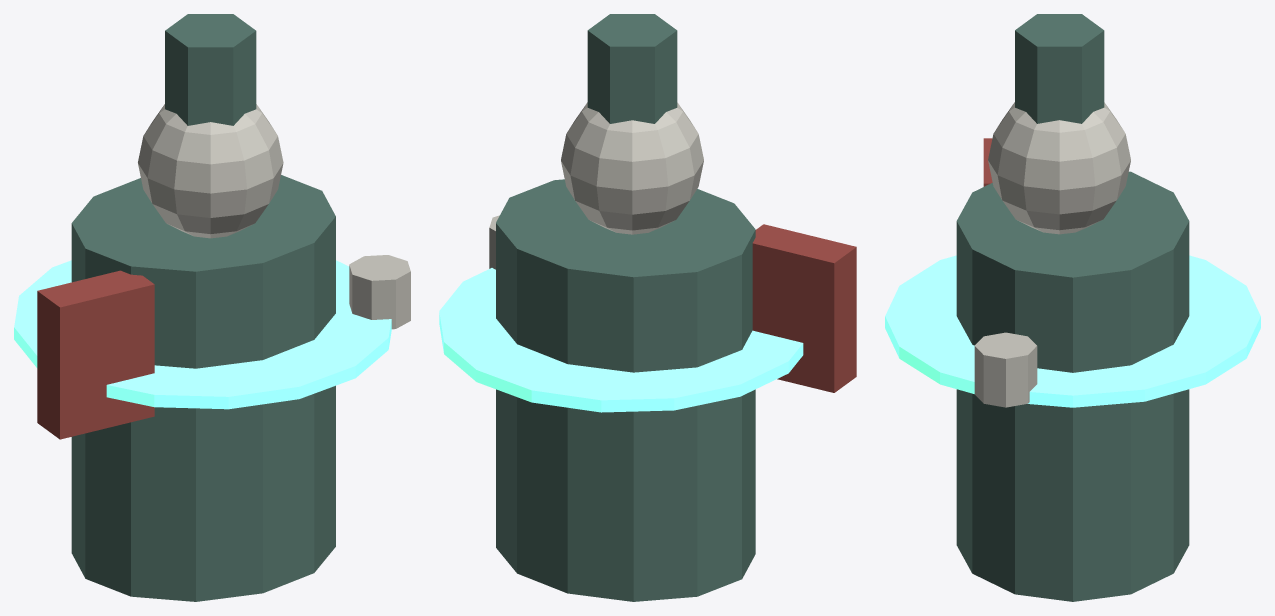
The model's file is compliance_lich.glb.
The picture shows the model from 3 angles, left to right: view 1: azimuth 30°, elevation 25°; view 2: azimuth 150°, elevation 25°; view 3: azimuth 270°, elevation 25°; orthographic projection.
Parts seen in each view (by area): view 1: BodyMesh, WardRing; view 2: BodyMesh, WardRing; view 3: BodyMesh, WardRing.
Part boxes in pixels (x1,y1,x2,y2): BodyMesh: [37, 14, 410, 601]; WardRing: [14, 260, 391, 409]; BodyMesh: [489, 14, 856, 601]; WardRing: [439, 268, 803, 412]; BodyMesh: [956, 14, 1189, 601]; WardRing: [885, 255, 1260, 407].
Bounding box in the file's own units: 0.91 × 1.27 × 0.84.
